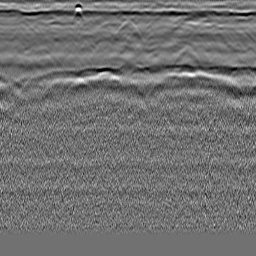cavity: (116, 20, 138, 35)
